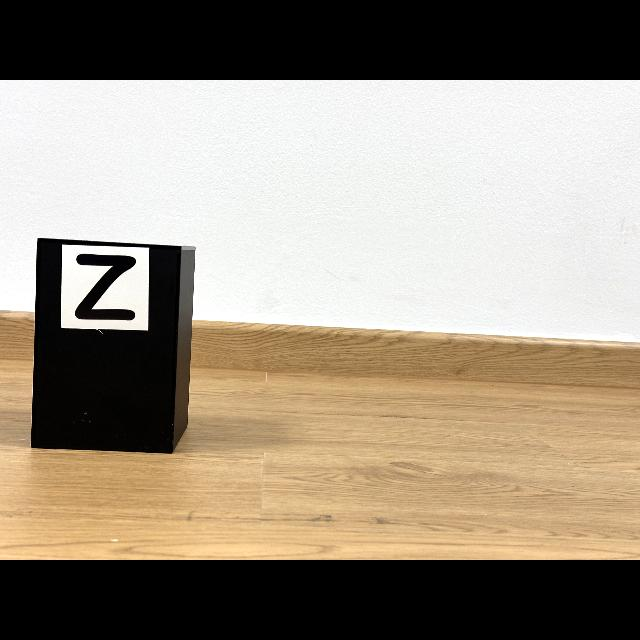Z: (75, 254, 136, 320)
